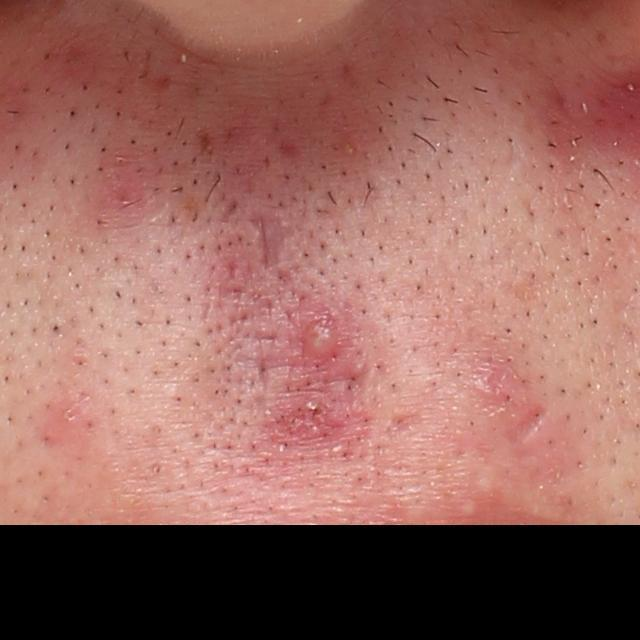atrophic_scar: (247, 213, 288, 267), (513, 404, 552, 446), (277, 140, 303, 162), (221, 197, 240, 224), (225, 256, 239, 282)
pustule: (300, 315, 345, 360)
